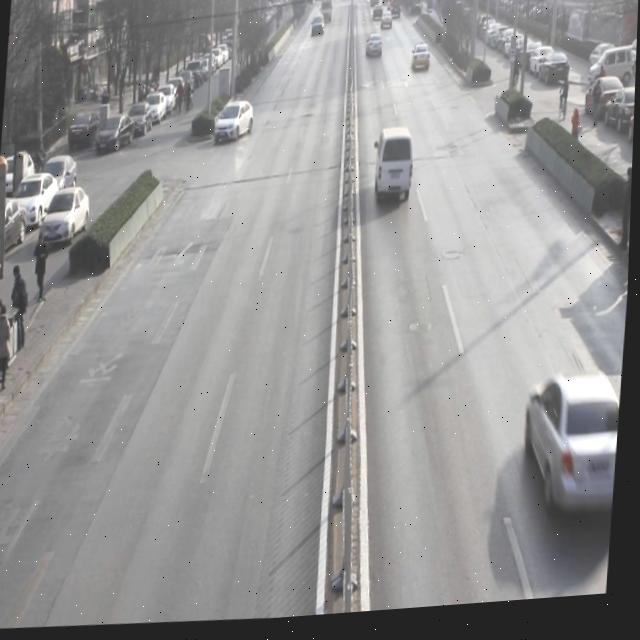car: (521, 374, 625, 542), (215, 98, 256, 149), (364, 33, 385, 67), (415, 48, 432, 77), (310, 18, 327, 47)
truck: (374, 133, 420, 210)
